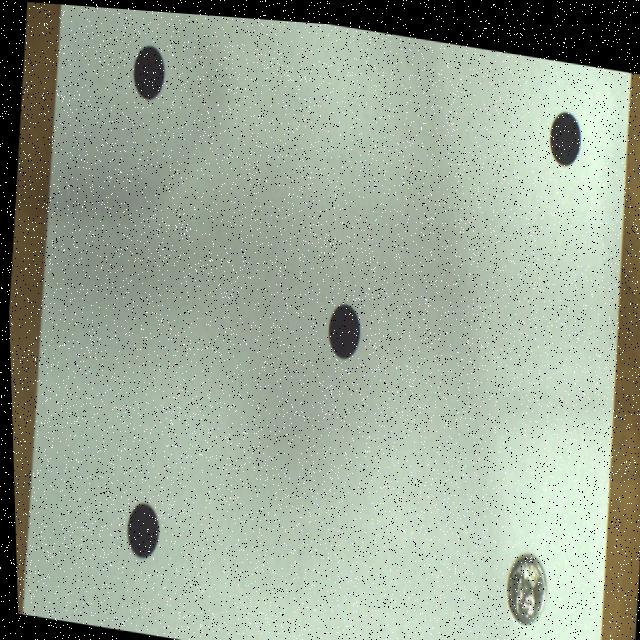head1bath: (503, 547, 543, 616)
space: (123, 500, 155, 556), (133, 43, 164, 98), (326, 298, 357, 353), (549, 103, 580, 157)
